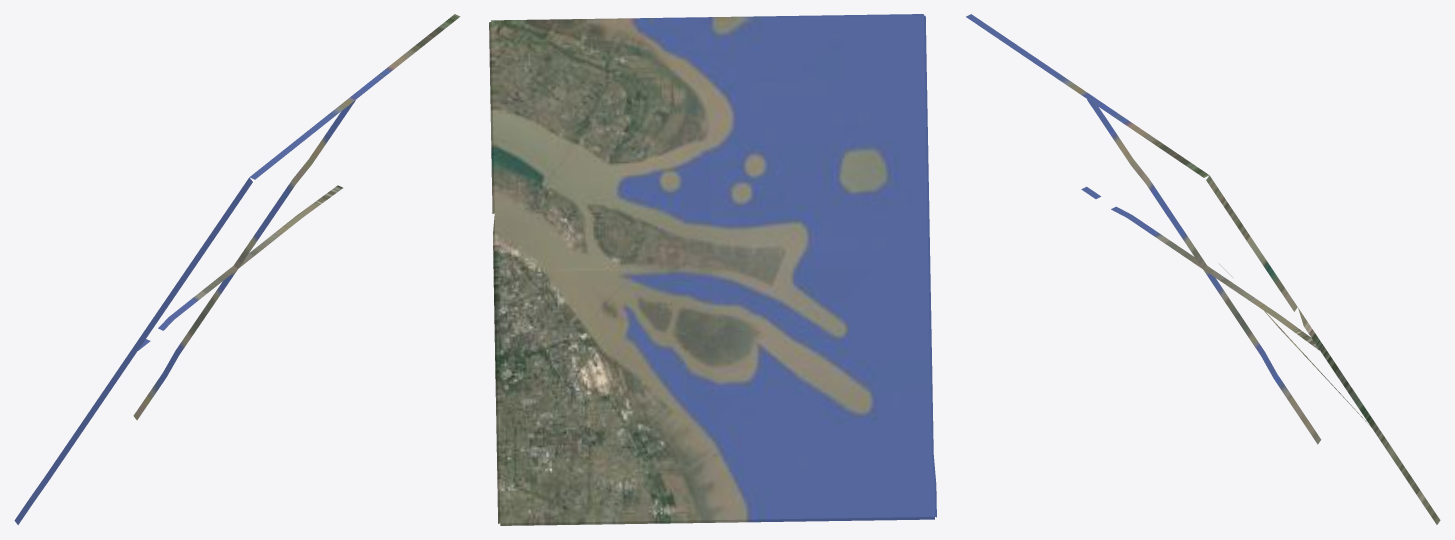
3 views of the same model, side by side, from view 1: azimuth 30°, elevation 25°; view 2: azimuth 150°, elevation 25°; view 3: azimuth 270°, elevation 25° (orthographic). The views are drawn at different scales.
Bounding box in the file's own units: 79492 × 67683 × 70940.
1 material, 1 textured.
